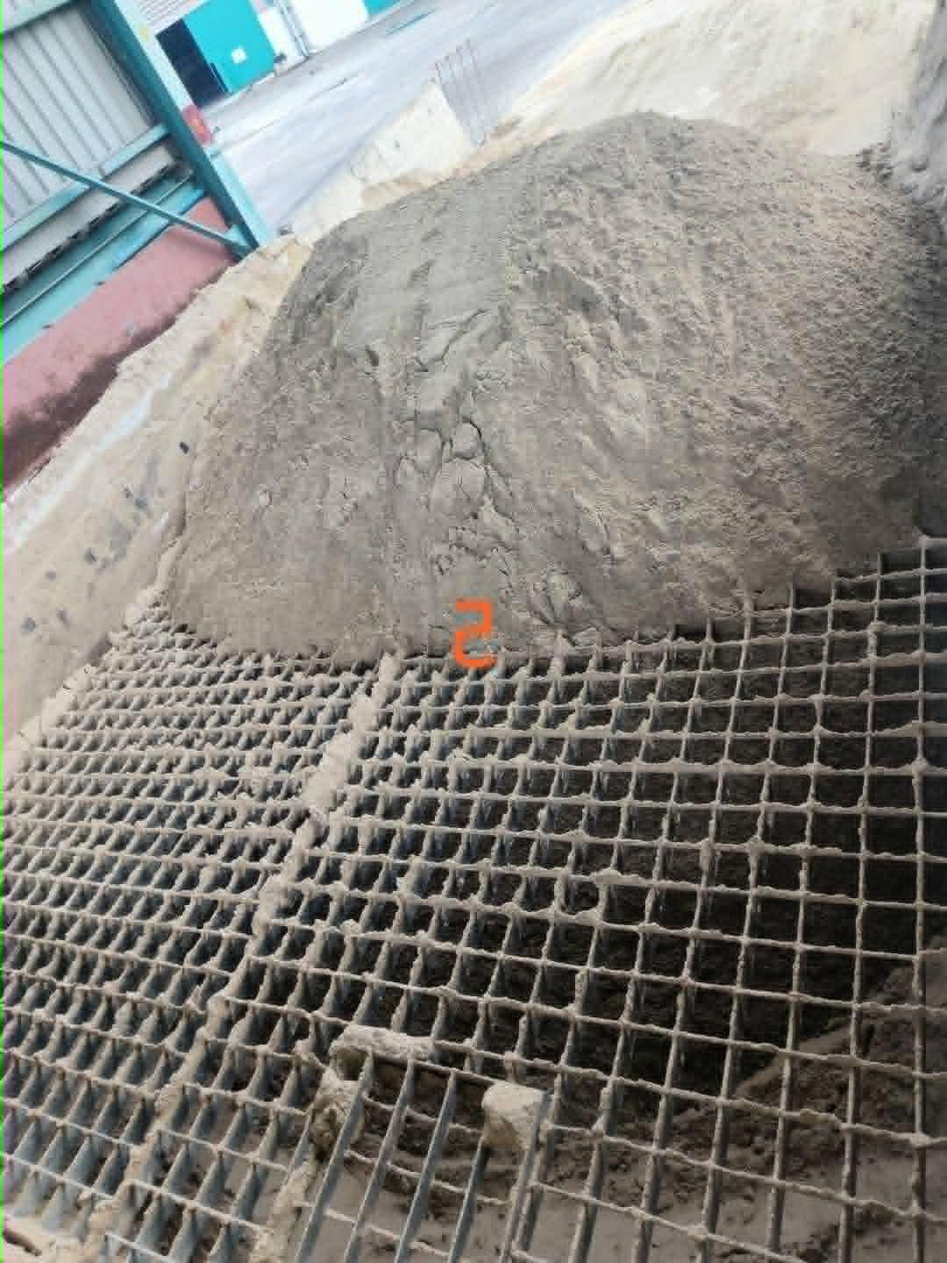sand: (174, 114, 947, 656), (510, 0, 938, 153), (892, 0, 947, 235)
